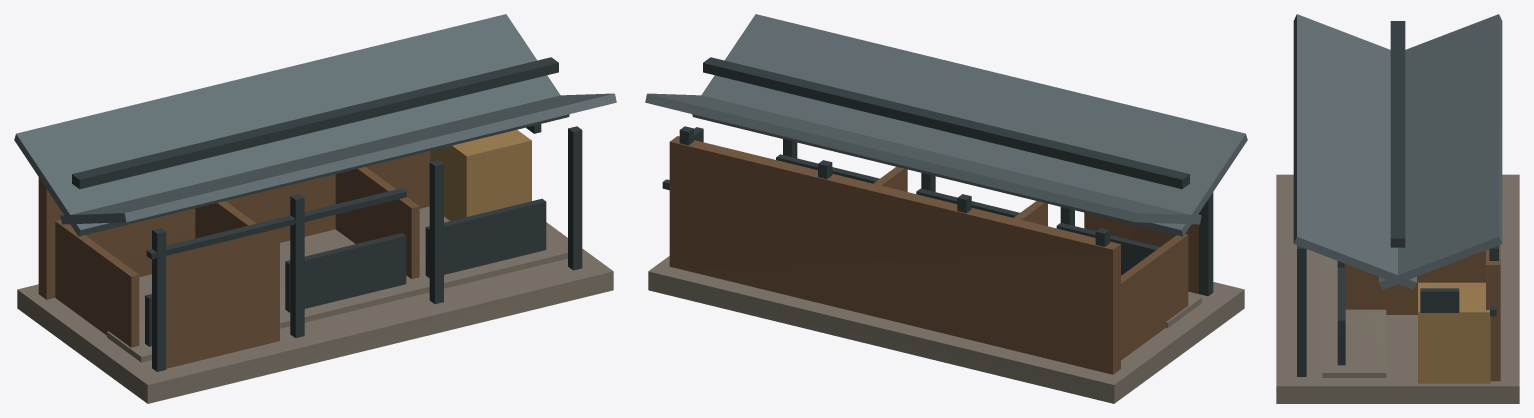
File: Stable.glb
3 renders of one model, left to right at view 1: azimuth 30°, elevation 25°; view 2: azimuth 150°, elevation 25°; view 3: azimuth 270°, elevation 25°, orthographic. The views are drawn at different scales.
Parts seen in each view (by area): view 1: wind-pump-static-stable-galvanized-roof, wind-pump-static-stable-weathered-timber, wind-pump-static-stable-dark-iron, wind-pump-static-stable-stone-foundation, wind-pump-static-stable-tack-service; view 2: wind-pump-static-stable-weathered-timber, wind-pump-static-stable-galvanized-roof, wind-pump-static-stable-stone-foundation, wind-pump-static-stable-dark-iron; view 3: wind-pump-static-stable-galvanized-roof, wind-pump-static-stable-stone-foundation, wind-pump-static-stable-dark-iron, wind-pump-static-stable-tack-service, wind-pump-static-stable-weathered-timber.
Part boxes in pixels (<box>): wind-pump-static-stable-galvanized-roof: <box>14,14,616,236</box>; wind-pump-static-stable-weathered-timber: <box>38,151,430,368</box>; wind-pump-static-stable-dark-iron: <box>72,57,582,371</box>; wind-pump-static-stable-stone-foundation: <box>17,206,613,403</box>; wind-pump-static-stable-tack-service: <box>430,130,531,220</box>; wind-pump-static-stable-weathered-timber: <box>669,136,1198,374</box>; wind-pump-static-stable-galvanized-roof: <box>645,14,1247,236</box>; wind-pump-static-stable-stone-foundation: <box>648,256,1244,403</box>; wind-pump-static-stable-dark-iron: <box>662,57,1213,296</box>; wind-pump-static-stable-galvanized-roof: <box>1293,14,1502,289</box>; wind-pump-static-stable-stone-foundation: <box>1276,174,1519,403</box>; wind-pump-static-stable-dark-iron: <box>1297,21,1498,376</box>; wind-pump-static-stable-tack-service: <box>1418,282,1490,383</box>; wind-pump-static-stable-weathered-timber: <box>1344,245,1500,381</box>.
Bounding box in the file's own units: 5.42 × 1.96 × 2.5.
